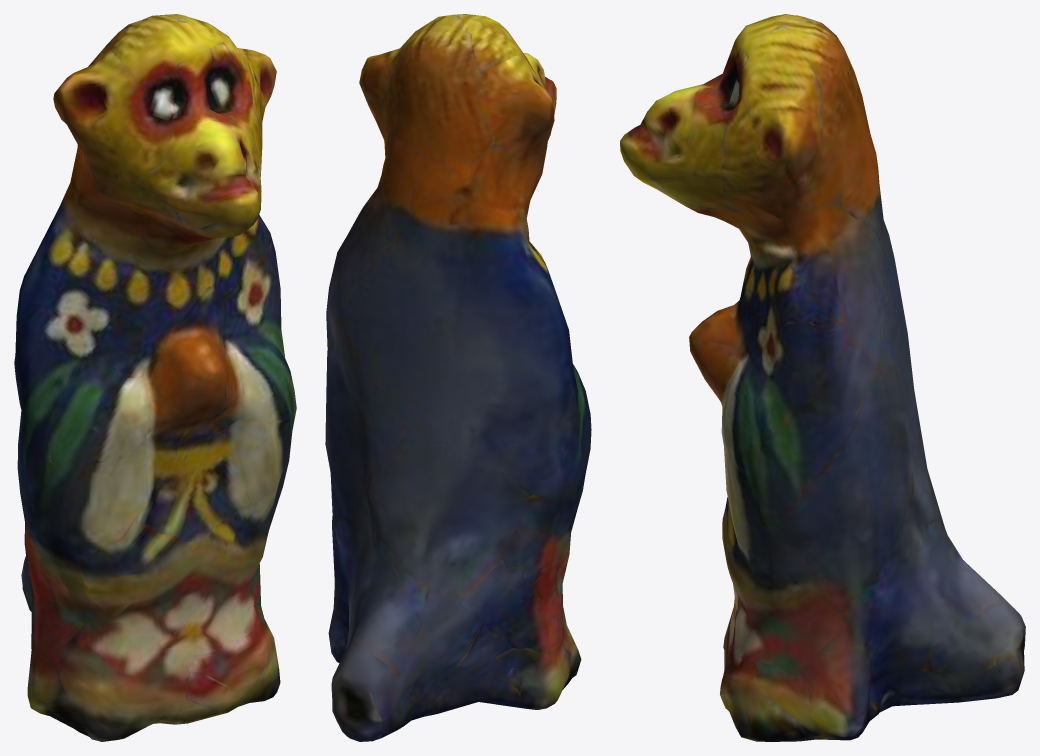
Rendered from hall.glb.
The picture shows the model from 3 angles, left to right: view 1: azimuth 30°, elevation 25°; view 2: azimuth 150°, elevation 25°; view 3: azimuth 270°, elevation 25°; orthographic projection. The views are drawn at different scales.
Bounding box in the file's own units: 0.1533 × 0.3898 × 0.2103.
1 material, 1 textured.
